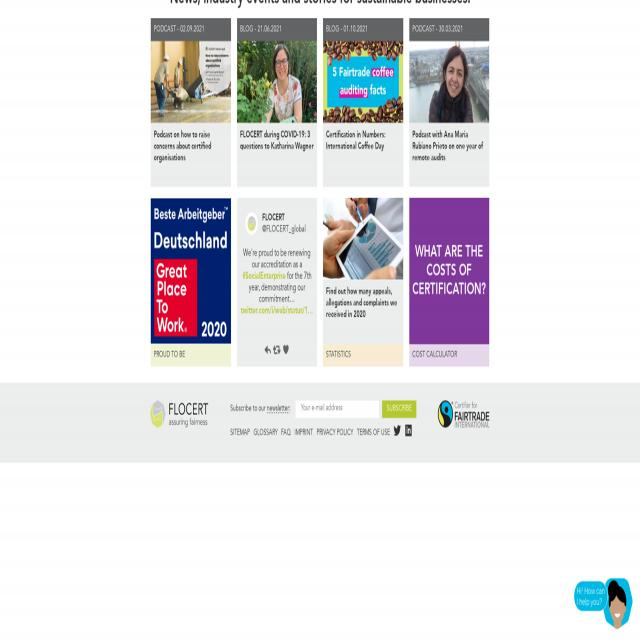button: (409, 198, 489, 366), (150, 198, 232, 345), (323, 198, 403, 280), (151, 41, 231, 123), (237, 41, 317, 123), (323, 41, 403, 123), (409, 41, 489, 123), (570, 574, 636, 632), (149, 400, 209, 428), (438, 400, 490, 428), (382, 400, 416, 418), (246, 212, 258, 235), (264, 342, 272, 358), (273, 342, 281, 358), (282, 342, 290, 358), (394, 425, 402, 436), (405, 425, 413, 436)
field: (296, 400, 379, 418)
